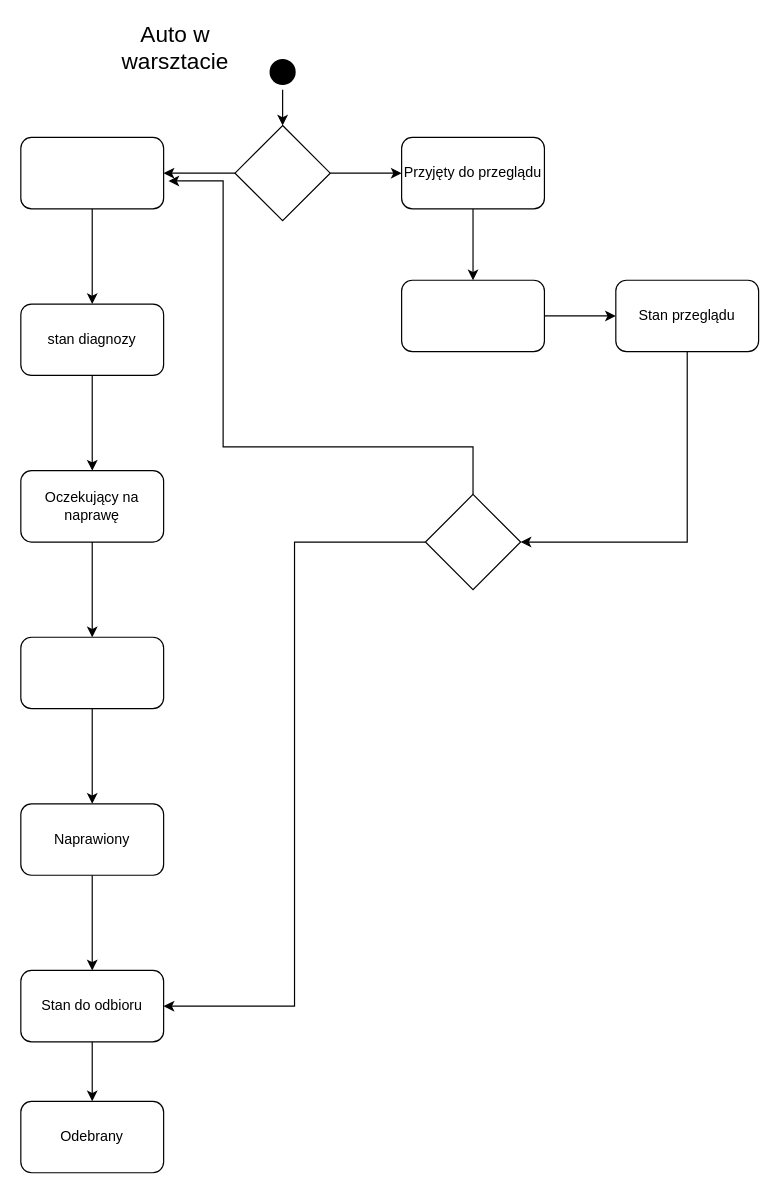
The diagram is 779 pixels wide and 1194 high, and some of its shapes have lost their labels. The shapes that lost their labels are listed below. From the top down, each one's centre as x and y in pixels, then its label:
At pixel 92 172: "Przyjęty do naprawy".
At pixel 472 315: "Oczekujący na przegląd".
At pixel 92 672: "Naprawiany".
